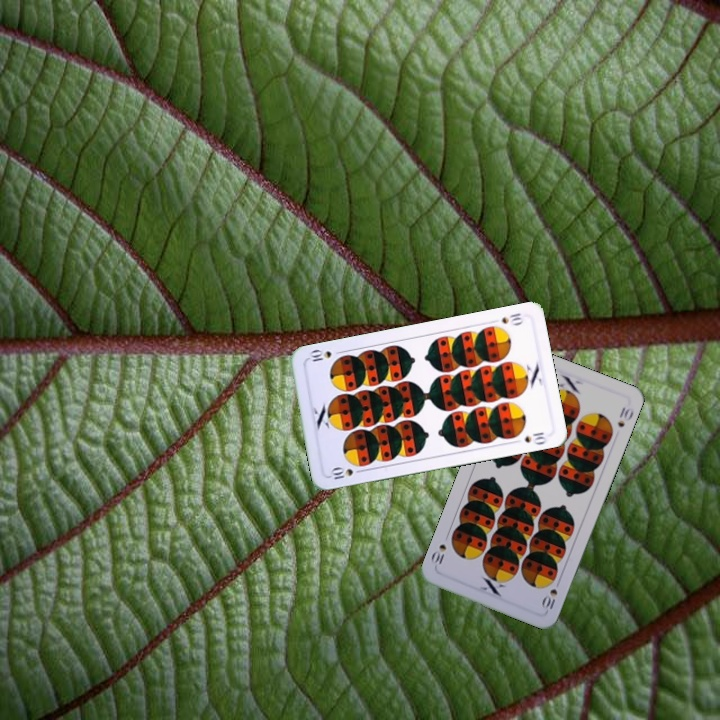S10: (538, 575, 563, 612), (326, 464, 366, 482), (498, 309, 526, 328)
